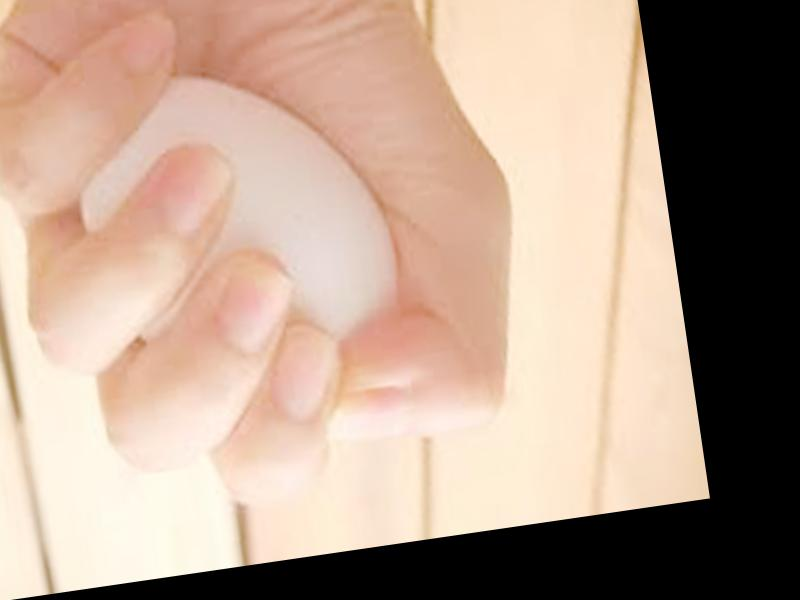Eggs: (60, 50, 410, 406)
